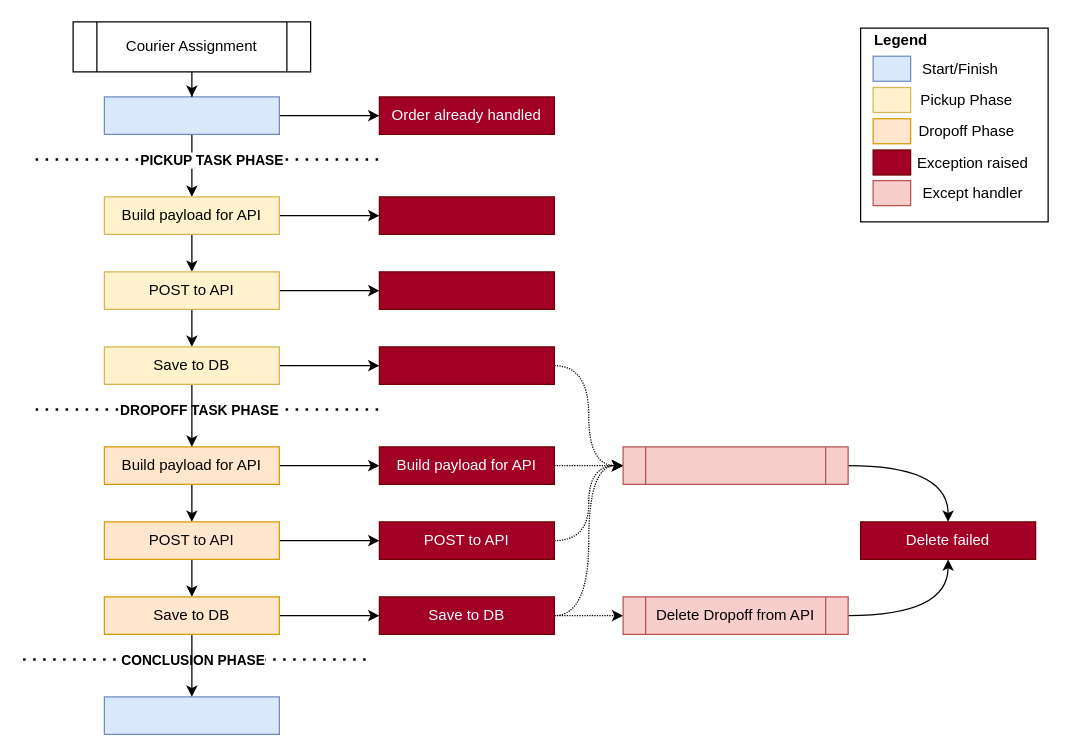
The diagram is 1070 pixels wide and 756 high, and some of its shapes have lost their labels. Here are the shapes that lost their labels. From the top down, the centre of each, then its label:
point 191,115: Ensure idempotency
point 466,215: Payload Creation Failed
point 466,290: API request failed
point 466,365: Save failed
point 735,465: Delete Pickup from API
point 191,715: Return dict
